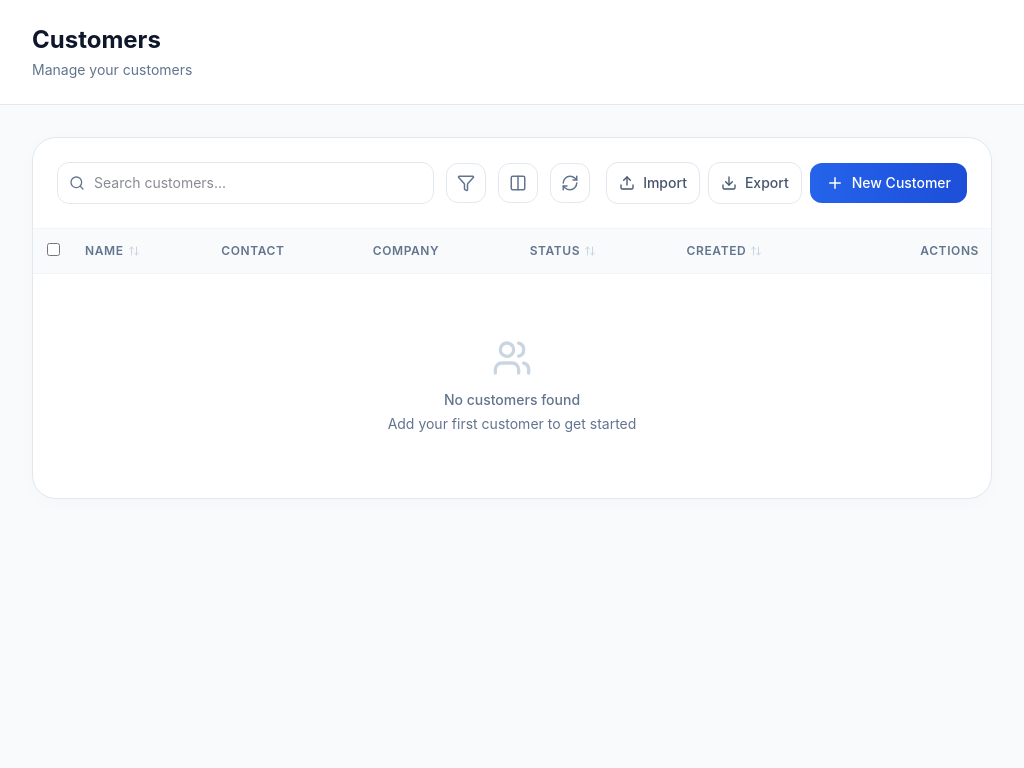
it: BUG-13 create form follows Customer Settings › Require Tax ID asks for a country first, then accepts any shown tax identifier
The width and height of the screenshot is (1024, 768).
Click the button "New Customer" at (888, 183), box [810, 163, 967, 203]
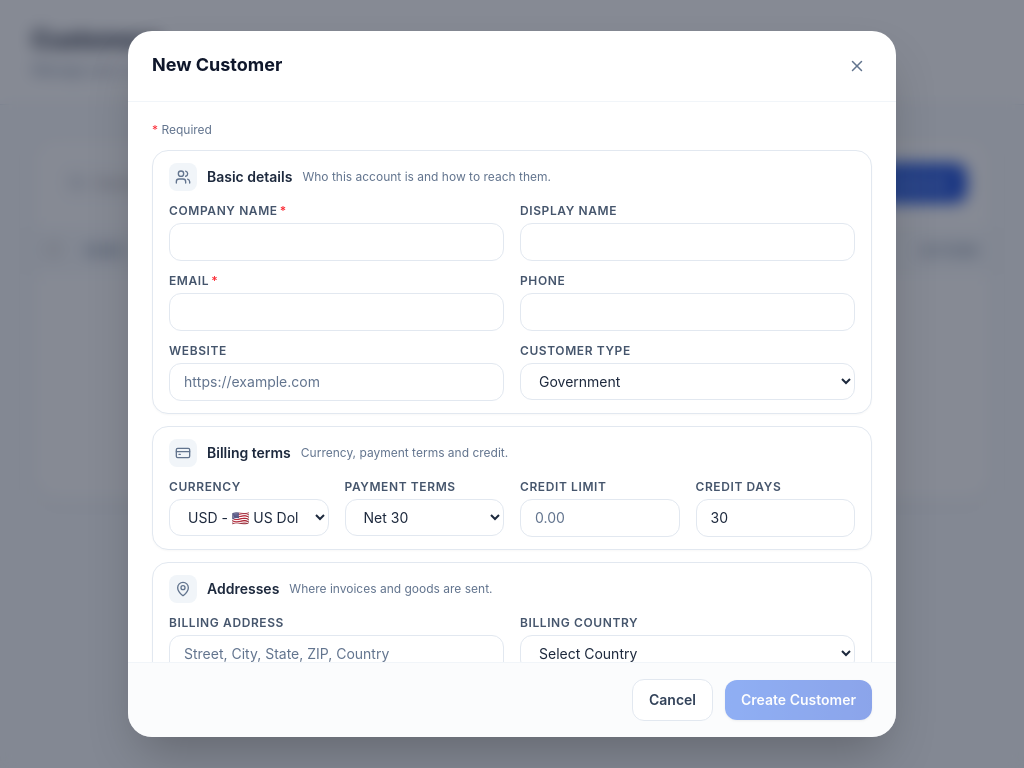
Type "New Co" into the field labelled "Company Name*" at (336, 242), box [169, 223, 504, 261]
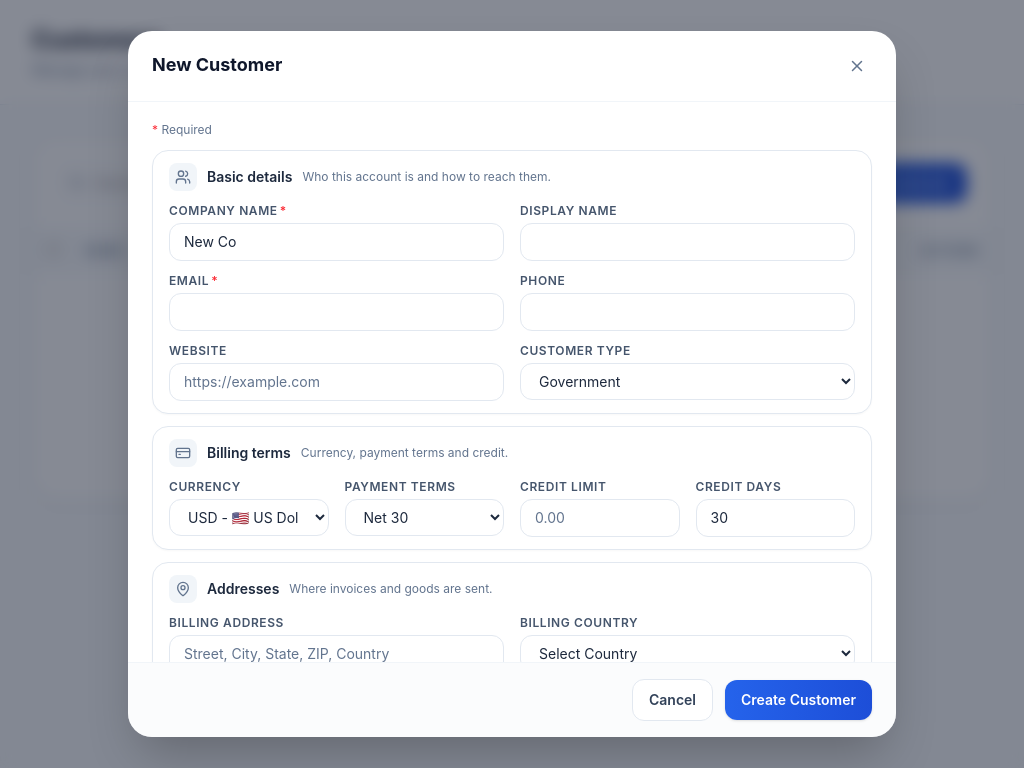
Type "new@co.com" into the field labelled "Email*" at (336, 312), box [169, 293, 504, 331]
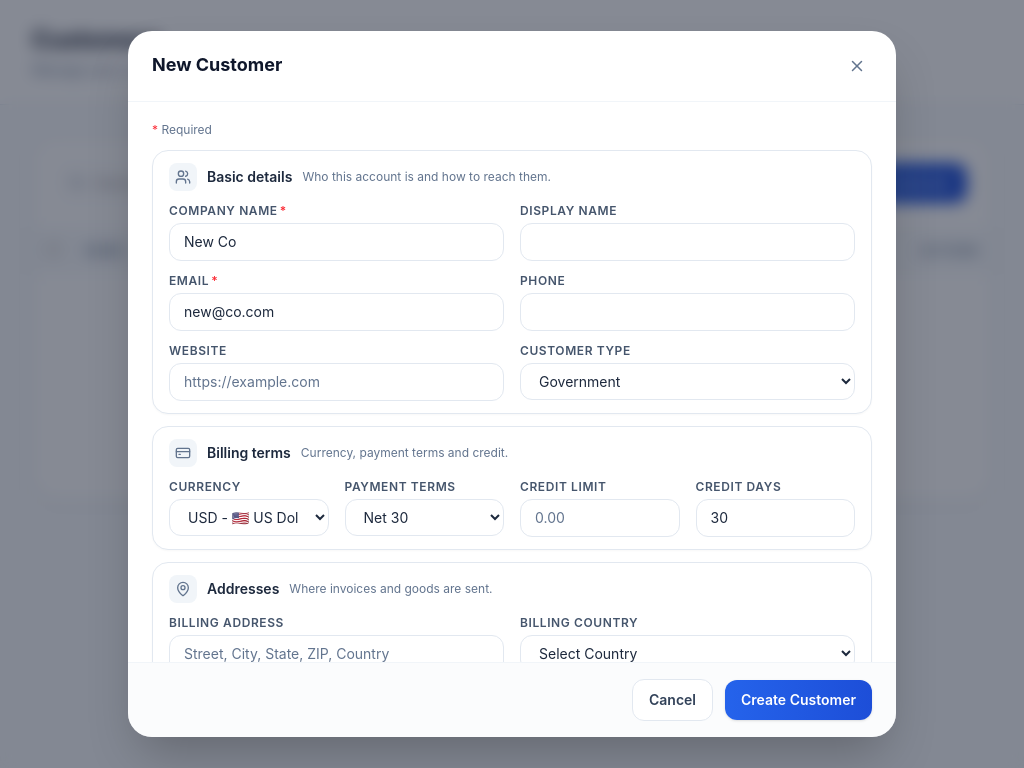
Click the button "Create Customer" at (798, 700), box [725, 680, 872, 720]
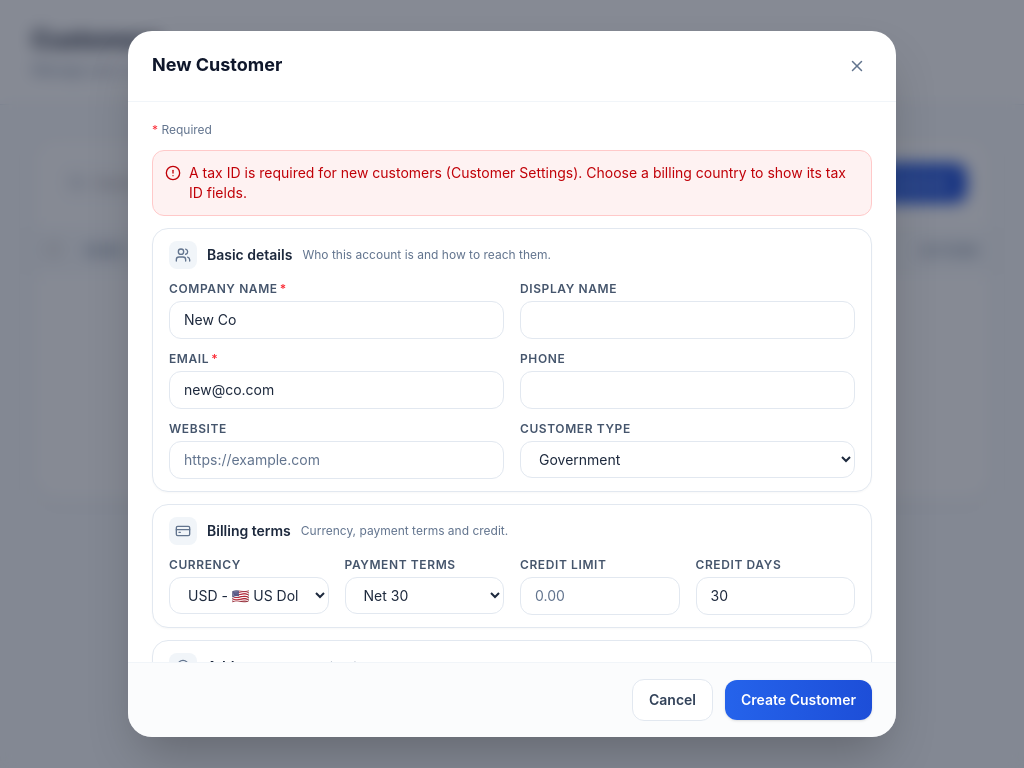
Expected: the text "choose a billing country to show its tax id fields" is shown, [189, 164, 846, 201]
